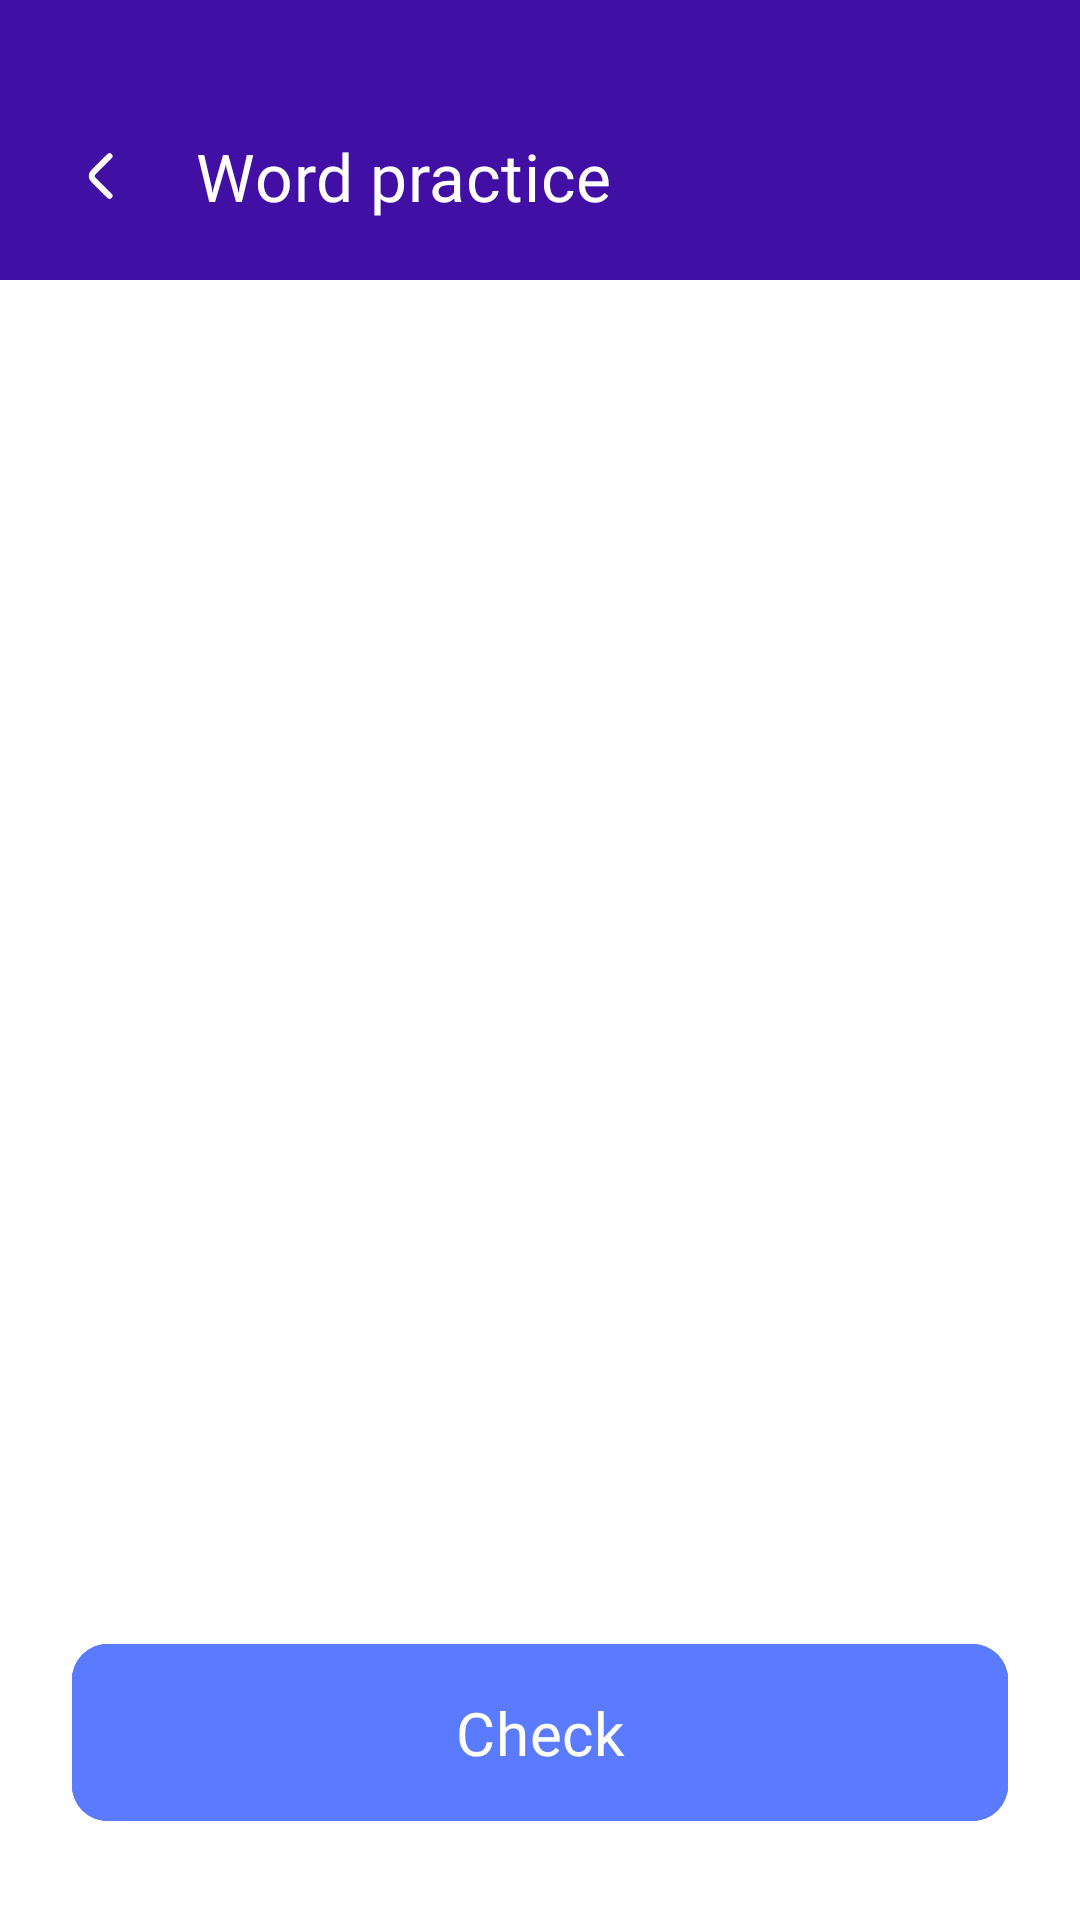

Named icons in this screenshot (1080×1920) and their bounding boxes, detection(x1, y1, x2, y2):
back: detection(88, 153, 113, 199)
